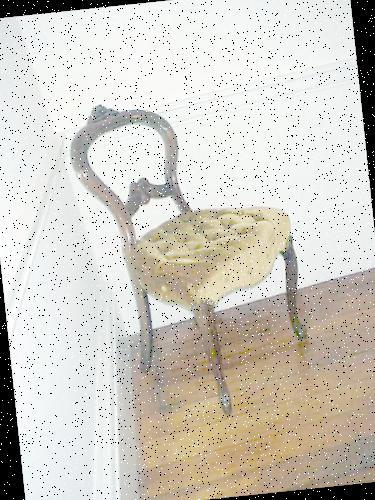Silla: (67, 80, 321, 430)
